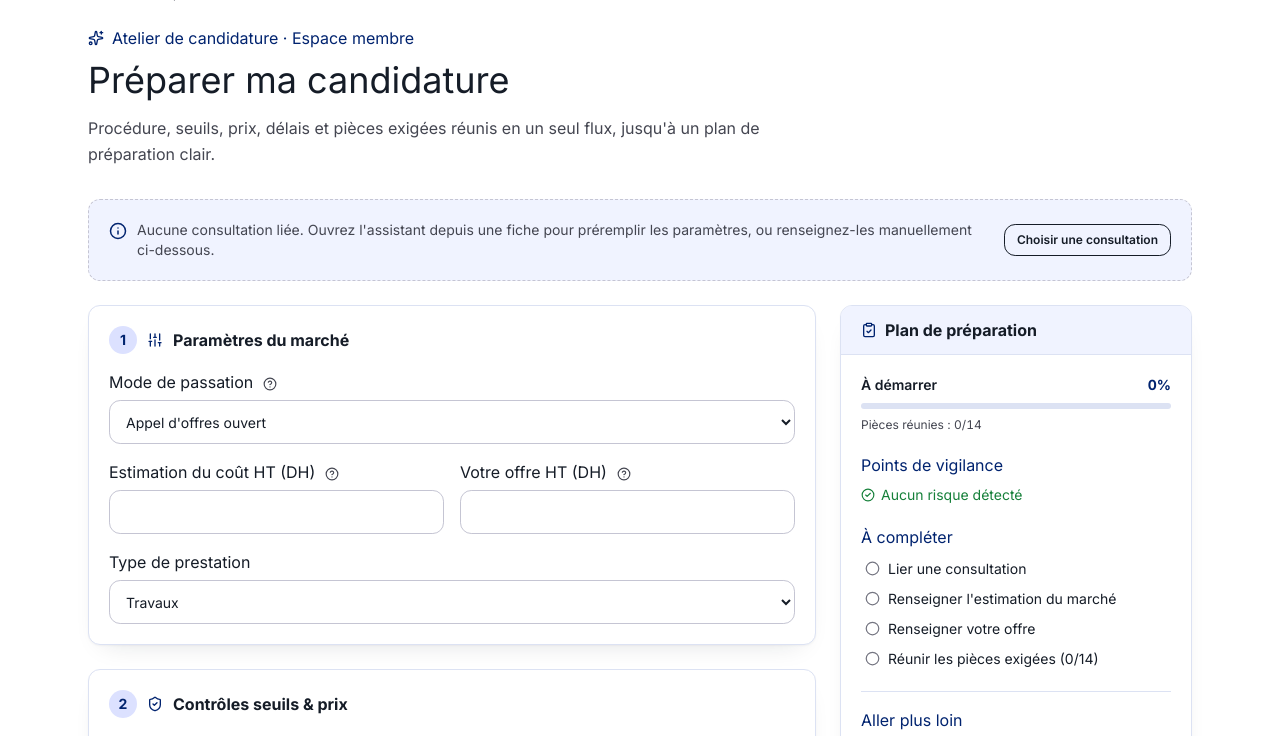
Test: CandidacyAssistant › shows an excessive price alert when the offer is more than 20 percent above estimate
This screenshot has width=1280, height=736.
Type "1000000" into the number field labelled "Estimation du coût HT (DH)".
click(276, 512); type("1000000")  # box [109,490,444,534]
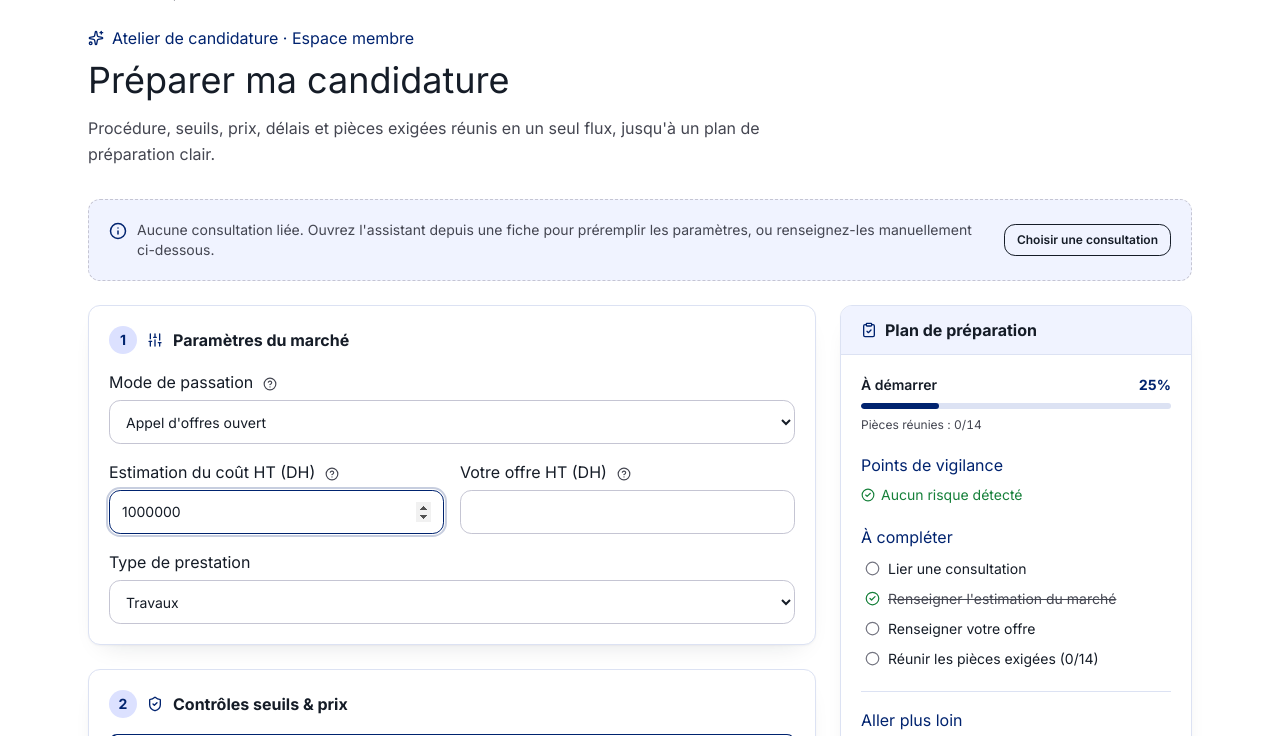
Type "1250000" into the number field labelled "Votre offre HT (DH)".
click(628, 512); type("1250000")  # box [460,490,795,534]
(page scrolled)
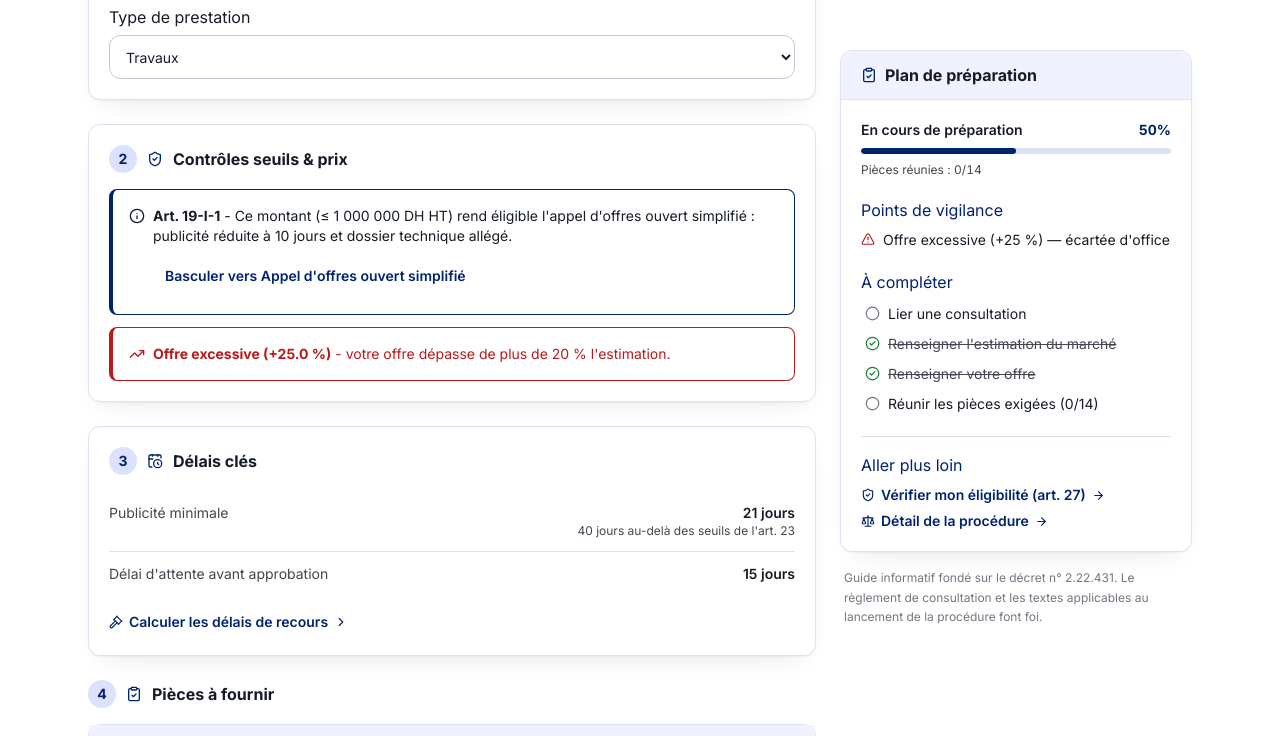
Now the message "Offre excessive (+25.0 %) - votre offre dépasse de plus de 20 % l'estimation." is shown, box [109,327,795,381]
